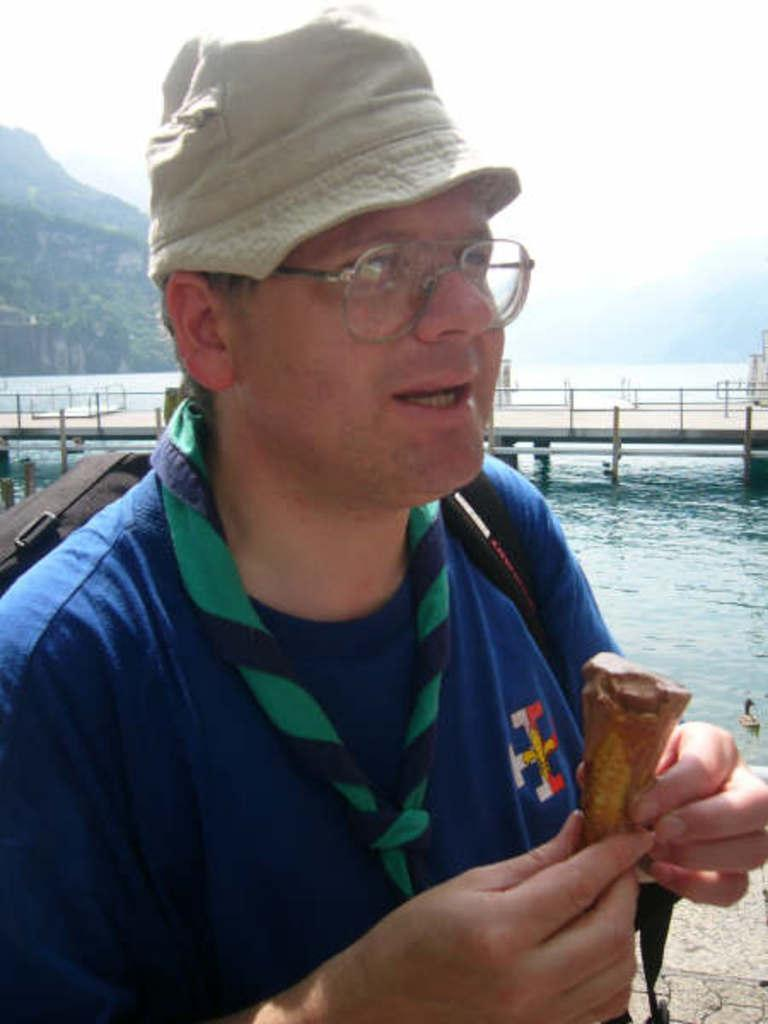Hat: (146, 0, 524, 285)
